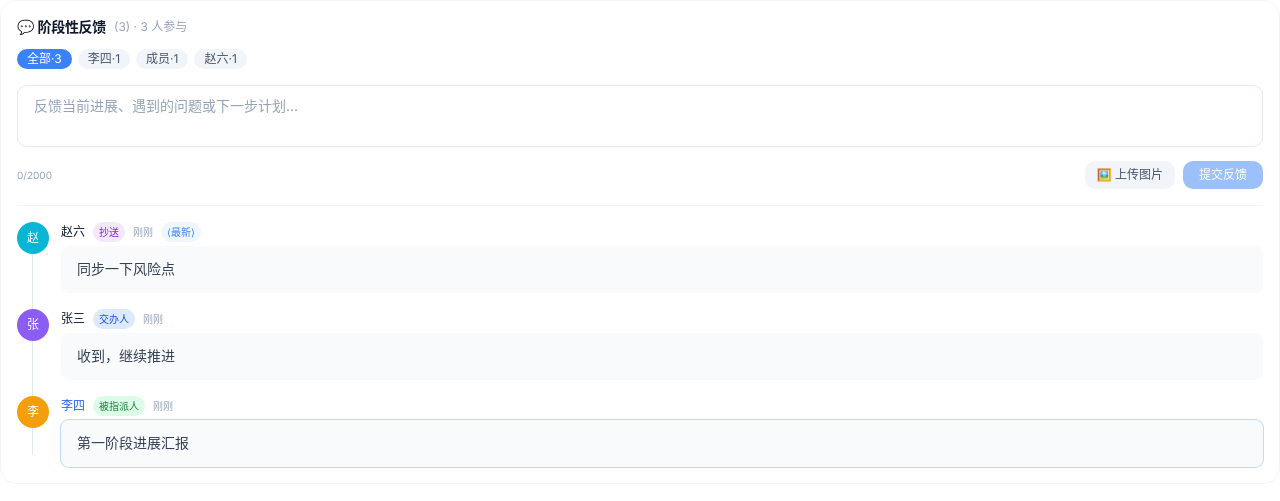
Test: FeedbackTimeline › 多人参与时应显示人员筛选 chips 并可过滤
Click the button "李四·1" at x=104, y=59, box [78,49,130,69]
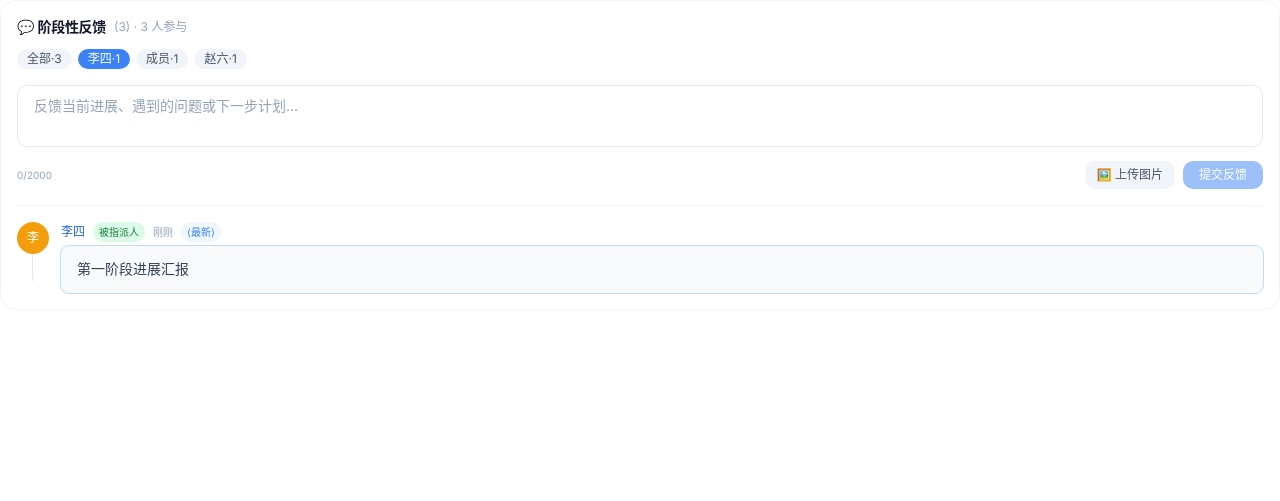
Expected: the element with class "items-start" shows "李四", [61,224,85,239]
Expected: the number of elements with class "items-start" is 1, [17,222,1263,293]
Expected: the element with class "items-start" shows "⟨最新⟩", [187,226,215,238]
